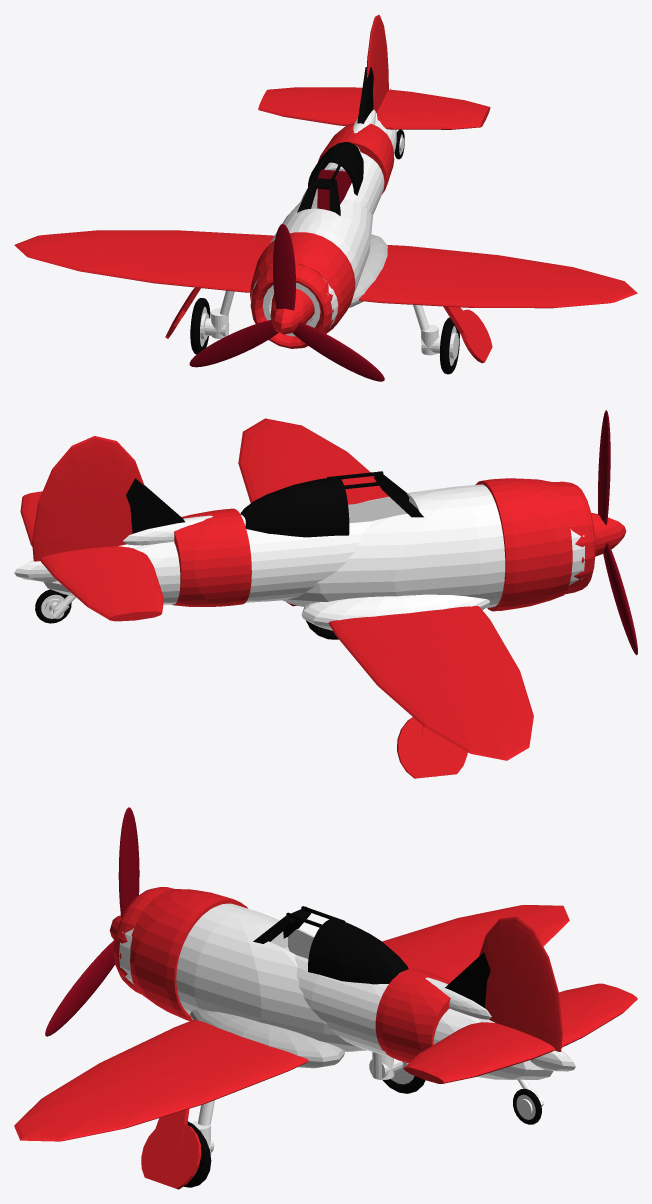
Rendered from PropPlane.obj.
3 renders of one model, top to bottom at view 1: azimuth 30°, elevation 25°; view 2: azimuth 150°, elevation 25°; view 3: azimuth 270°, elevation 25°, orthographic. The views are drawn at different scales.
Parts seen in each view (by area): view 1: Object.21, Object.22, Object.17, Object.24, Object.48, Object.27, Object.16, Object.31, Object.30, Object.3, Object.29, Object.18 (+10 smaller); view 2: Object.22, Object.17, Object.26, Object.48, Object.18, Object.21, Object.3, Object.27, Object.49, Object.23, Object.8, Object.16 (+8 smaller); view 3: Object.21, Object.17, Object.26, Object.48, Object.18, Object.22, Object.24, Object.3, Object.49, Object.1, Object.27, Object.6 (+9 smaller).
Boxes of the visible parts, x1,y1,x2,y2 form: Object.21: (359, 245, 637, 308); Object.22: (14, 230, 274, 292); Object.17: (251, 190, 372, 336); Object.24: (377, 89, 490, 129); Object.48: (250, 232, 355, 333); Object.27: (258, 87, 362, 125); Object.16: (250, 263, 333, 348); Object.31: (293, 322, 384, 381); Object.30: (189, 320, 278, 367); Object.3: (317, 122, 394, 194); Object.29: (273, 224, 295, 310); Object.18: (301, 120, 396, 214); Object.22: (328, 606, 533, 760); Object.17: (282, 484, 584, 607); Object.26: (32, 436, 144, 561); Object.48: (475, 478, 572, 611); Object.18: (43, 501, 413, 604); Object.21: (238, 418, 388, 504); Object.3: (172, 508, 251, 606); Object.27: (40, 547, 163, 621); Object.49: (240, 477, 349, 537); Object.23: (301, 594, 489, 629); Object.8: (397, 717, 467, 778); Object.16: (553, 481, 595, 594); Object.21: (14, 1019, 308, 1141); Object.17: (119, 903, 366, 1051); Object.26: (479, 917, 562, 1051); Object.48: (130, 889, 247, 1020); Object.18: (270, 932, 553, 1079); Object.22: (382, 905, 569, 981); Object.24: (403, 1022, 562, 1083); Object.3: (375, 968, 450, 1063); Object.49: (308, 918, 408, 984); Object.1: (190, 1010, 344, 1068); Object.27: (559, 983, 637, 1047); Object.6: (141, 1123, 201, 1189).
Bounding box in the file's own units: 7.5 × 4.12 × 7.51.
